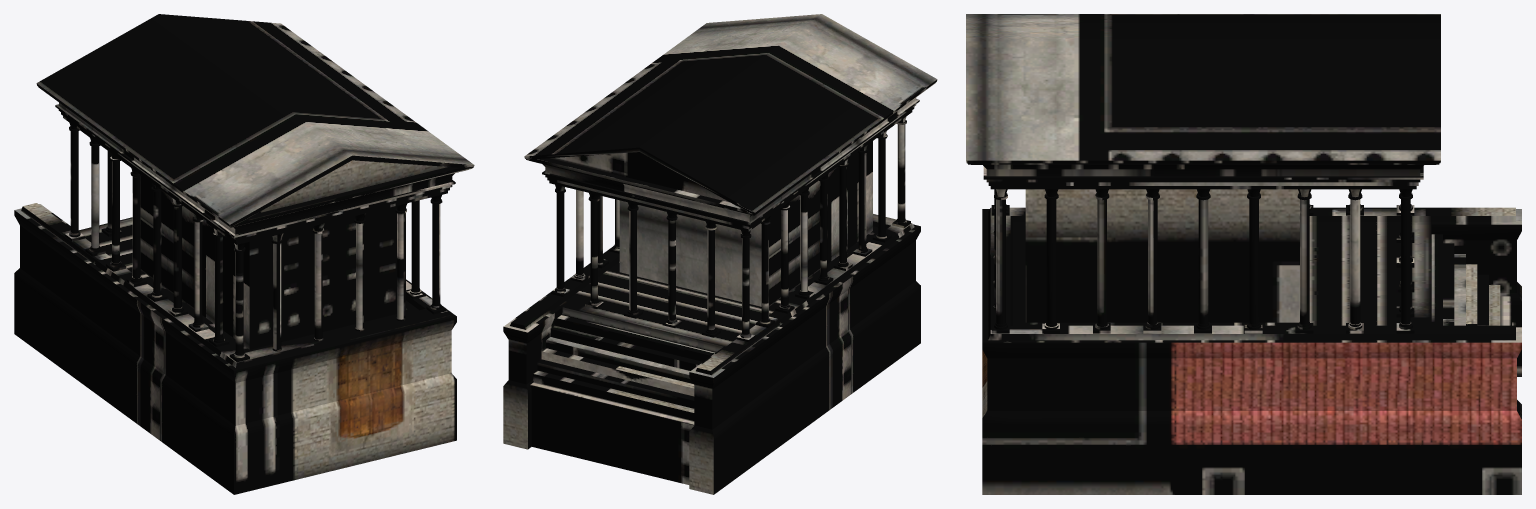
Rendered from Tempel.obj.
3 views of the same model, side by side, from view 1: azimuth 30°, elevation 25°; view 2: azimuth 150°, elevation 25°; view 3: azimuth 270°, elevation 25° (orthographic). The views are drawn at different scales.
Size of the model in its own units: 567 by 702 by 909.
